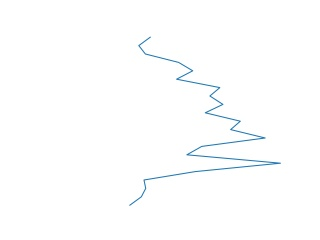floodSwamp: (128, 35, 282, 208)
